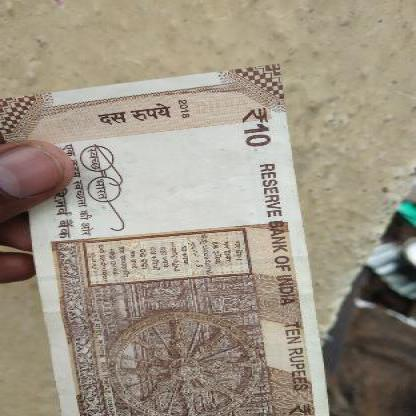New10Back: (0, 62, 331, 415)
